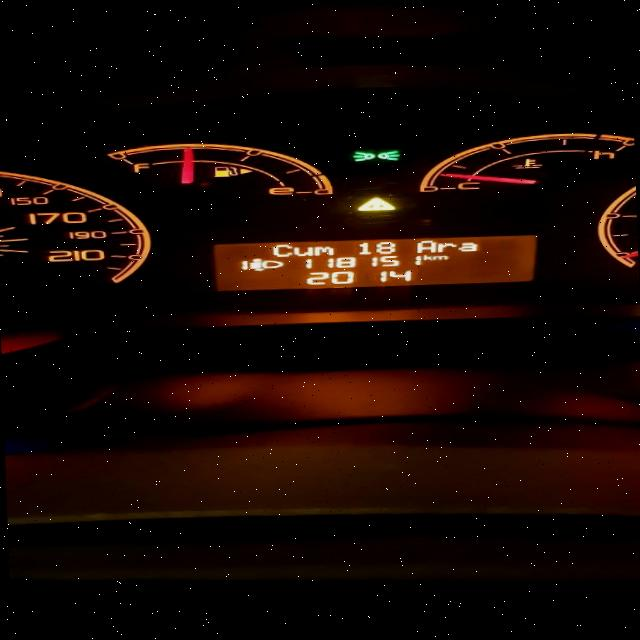odometer: (198, 233, 544, 299)
